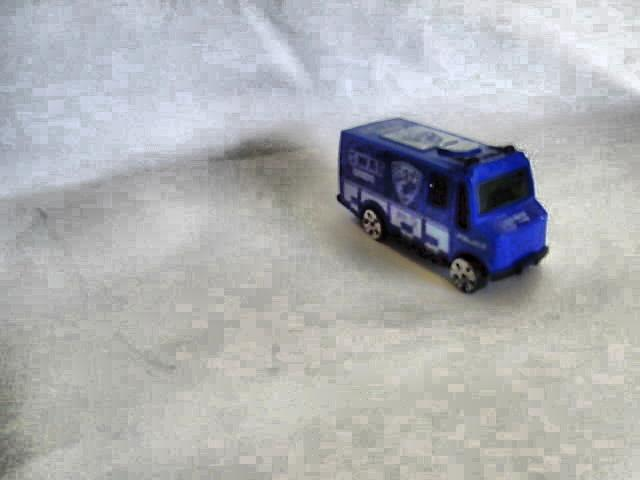police car: (335, 120, 549, 296)
